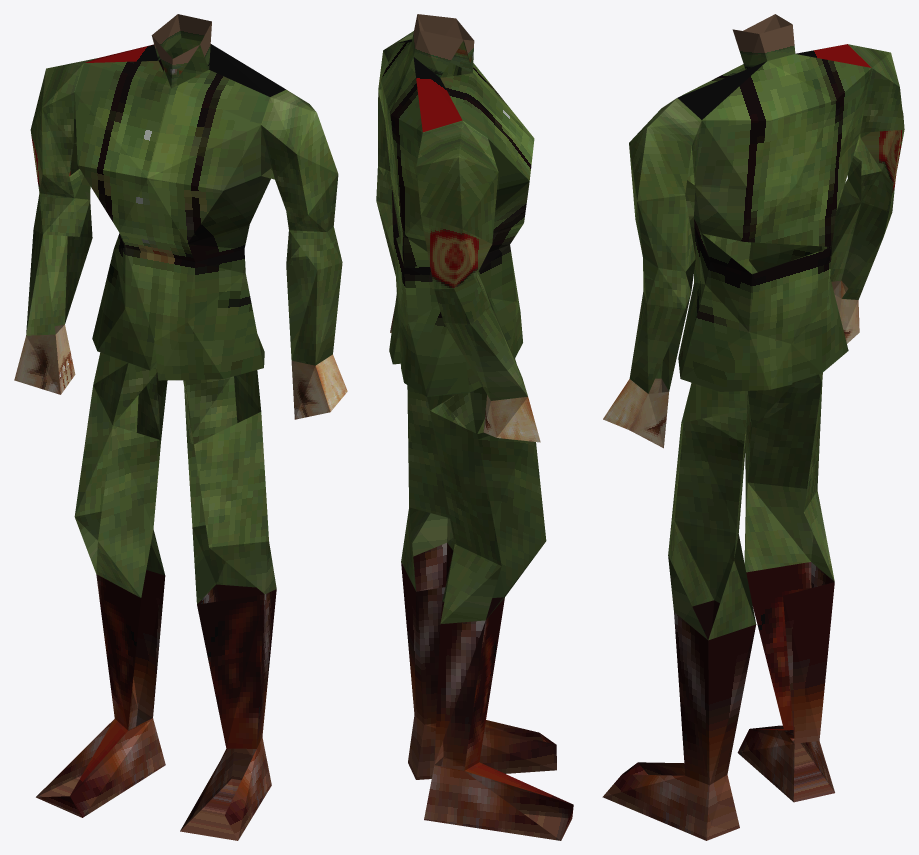
File: primary_010.glb
The picture shows the model from 3 angles, left to right: view 1: azimuth 30°, elevation 25°; view 2: azimuth 150°, elevation 25°; view 3: azimuth 270°, elevation 25°; orthographic projection. The views are drawn at different scales.
Parts seen in each view (by area): view 1: Object; view 2: Object; view 3: Object.
Part boxes in pixels (x1,y1,x2,y2): Object: [14, 14, 347, 840]; Object: [376, 14, 573, 840]; Object: [602, 14, 904, 840].
Bounding box in the file's own units: 0.5966 × 1.83 × 0.6328.
64 materials, 64 textured.
